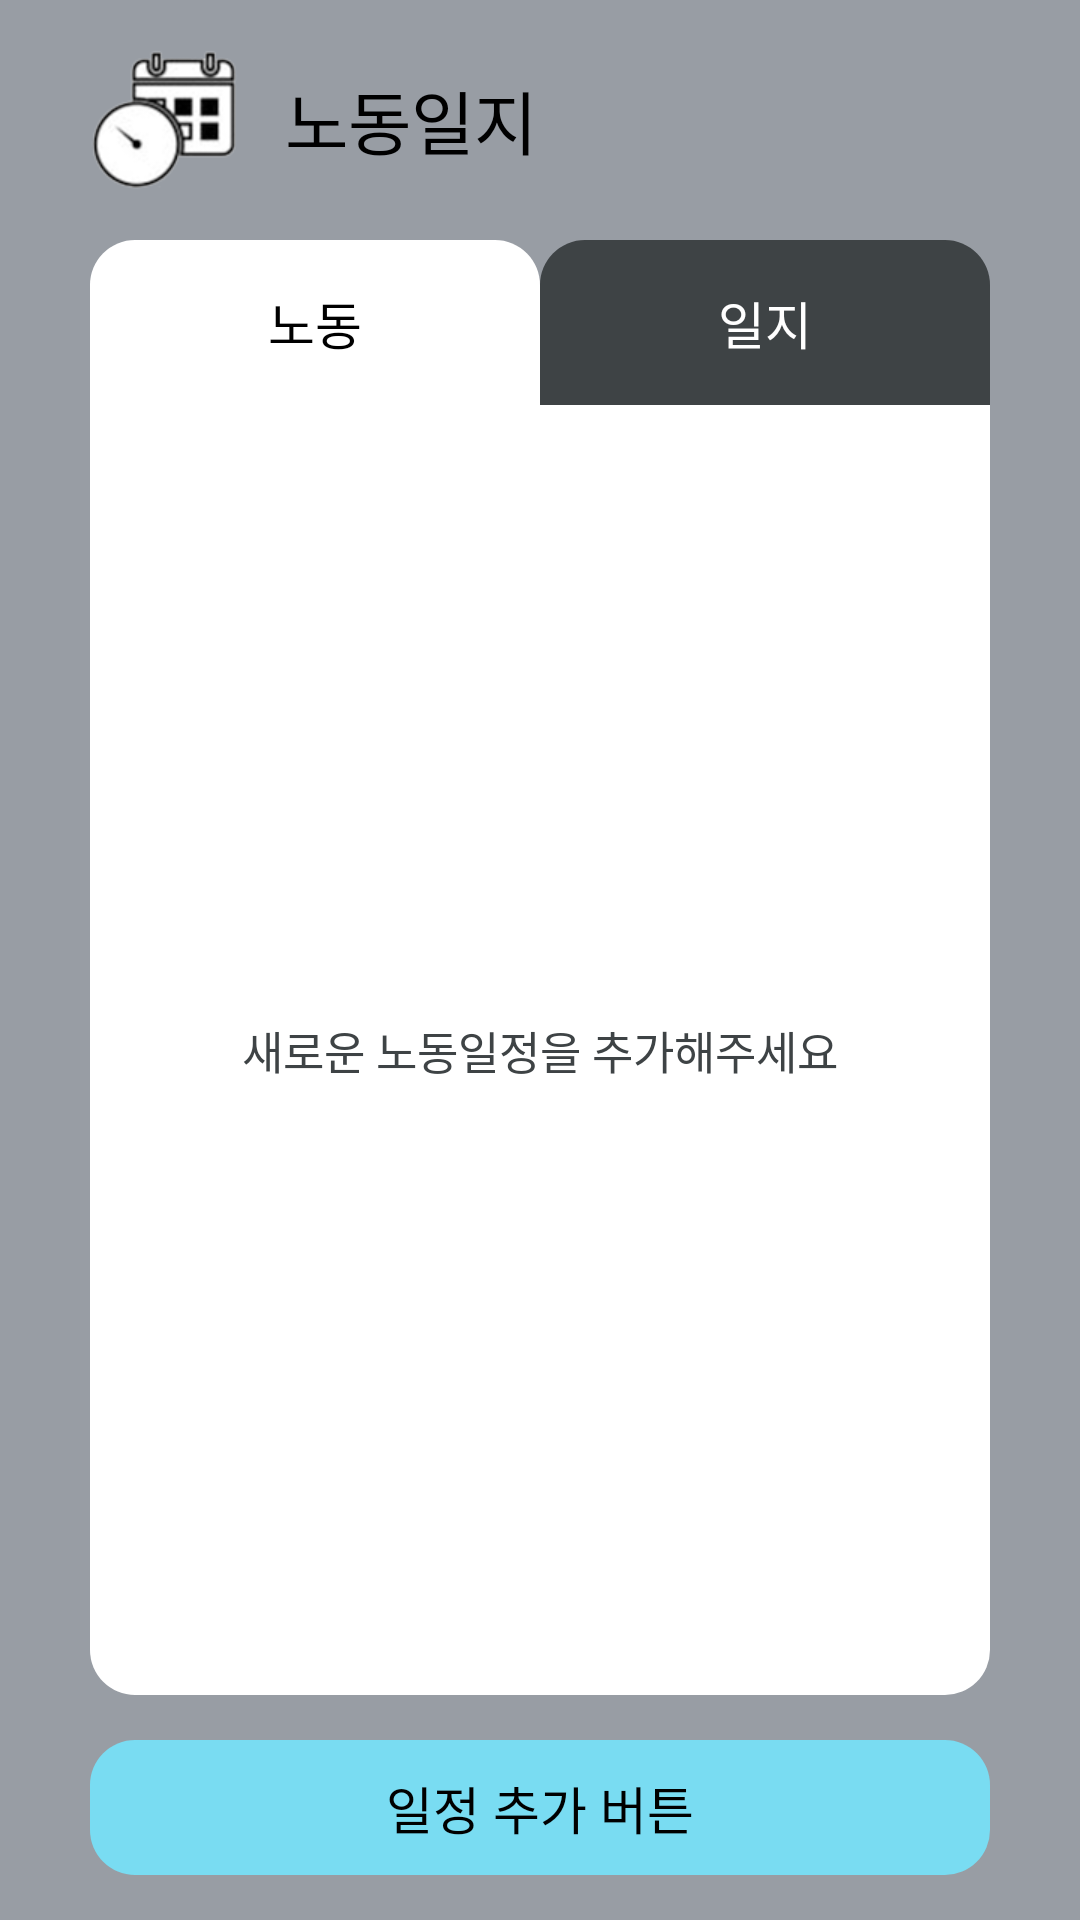

Icon click points for this 1080w x 1920h phone screenshot, format (x,y):
workdiary: (164,119)
